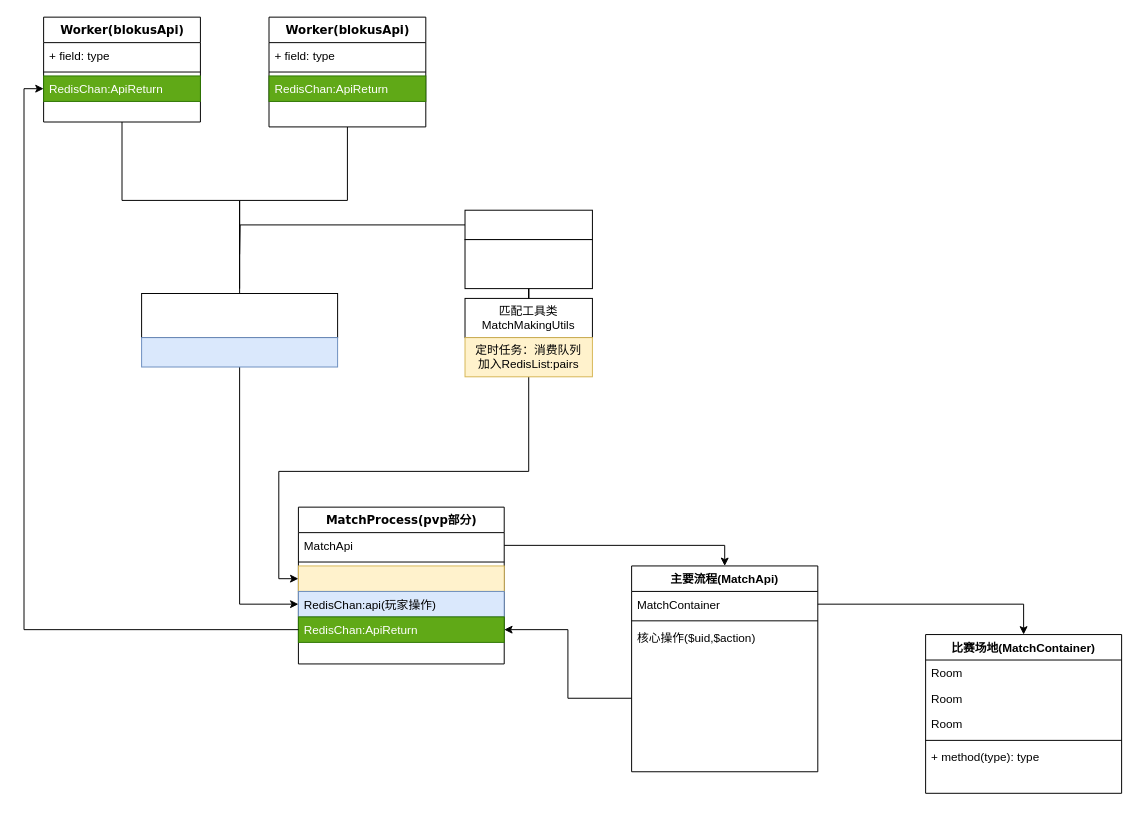
Image size: 1139x813. Some labels were removed from this diagram. Each missing label, with the centre of its shape:
"pvp匹配" goes at (x=528, y=224).
"RedisChan:api" goes at (x=239, y=352).
"RedisList:pairs(匹配成功的玩家)" goes at (x=400, y=578).
"加入Redis有序队列 MatchingQueue" goes at (x=528, y=264).
"新建房间 游戏操作等" goes at (x=239, y=315).
